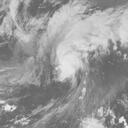cyclone: (37, 14, 88, 83)
